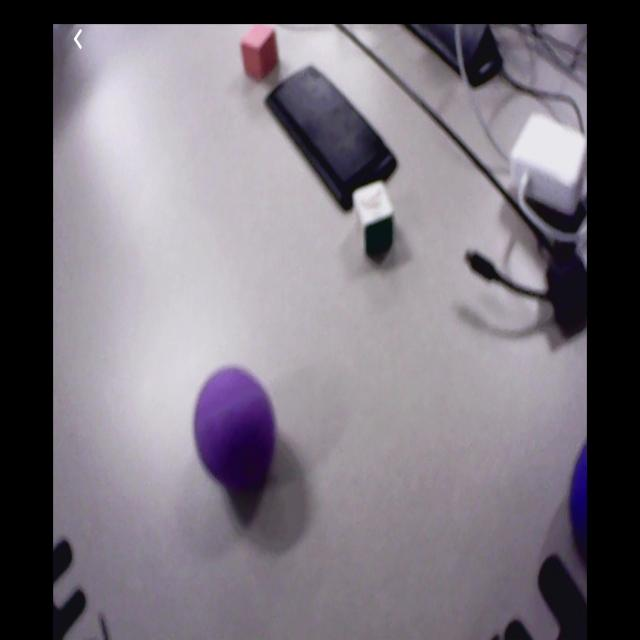ball: (197, 368, 275, 495), (569, 440, 589, 563)
